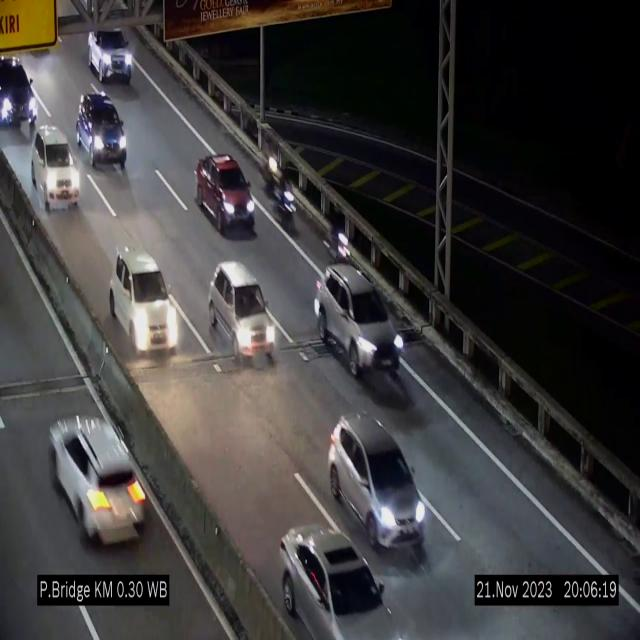Car: (264, 502, 402, 640), (47, 396, 151, 551), (328, 413, 428, 553), (317, 265, 403, 390), (107, 246, 181, 358), (209, 261, 276, 362), (75, 90, 133, 174), (196, 153, 256, 234), (31, 123, 82, 209), (88, 14, 144, 87), (0, 41, 40, 136)
Motorcycle: (278, 163, 299, 240), (264, 135, 284, 207), (332, 216, 354, 276)
